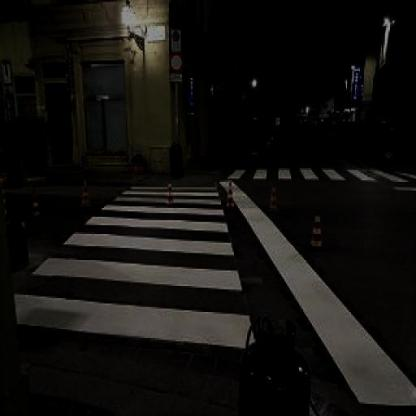crosswalk: (25, 229, 249, 293), (96, 193, 230, 217)
